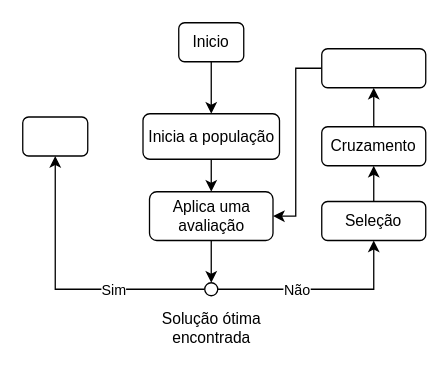
Image size: 448x371. Some labels were removed from this diagram. The centre of each missing label's shape, as x and y in pixels:
Fim: the point at 54,136
Mutação: the point at 373,67
